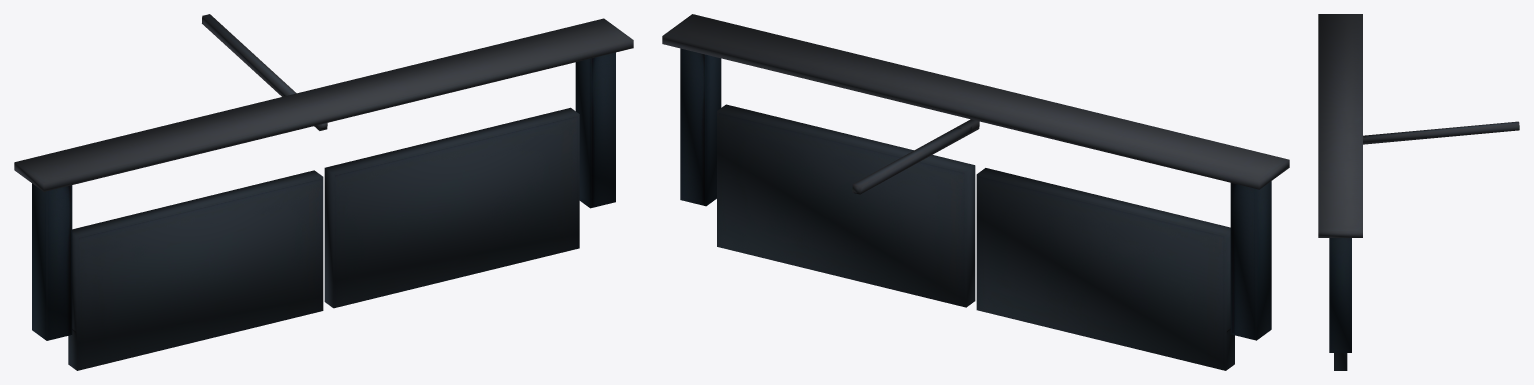
File: lock-gate-structure-tripo-original.glb
3 views of the same model, side by side, from view 1: azimuth 30°, elevation 25°; view 2: azimuth 150°, elevation 25°; view 3: azimuth 270°, elevation 25° (orthographic). The views are drawn at different scales.
Visible parts, largest first — view 1: Authored_surface_035; view 2: Authored_surface_035; view 3: Authored_surface_035.
Part boxes in pixels (box(x1,y1,x2,y2)): Authored_surface_035: box(14, 14, 633, 370); Authored_surface_035: box(662, 14, 1289, 370); Authored_surface_035: box(1318, 14, 1519, 370).
Size of the model in its own units: 1 by 0.3326 by 0.3911.
1 material, 1 textured.
